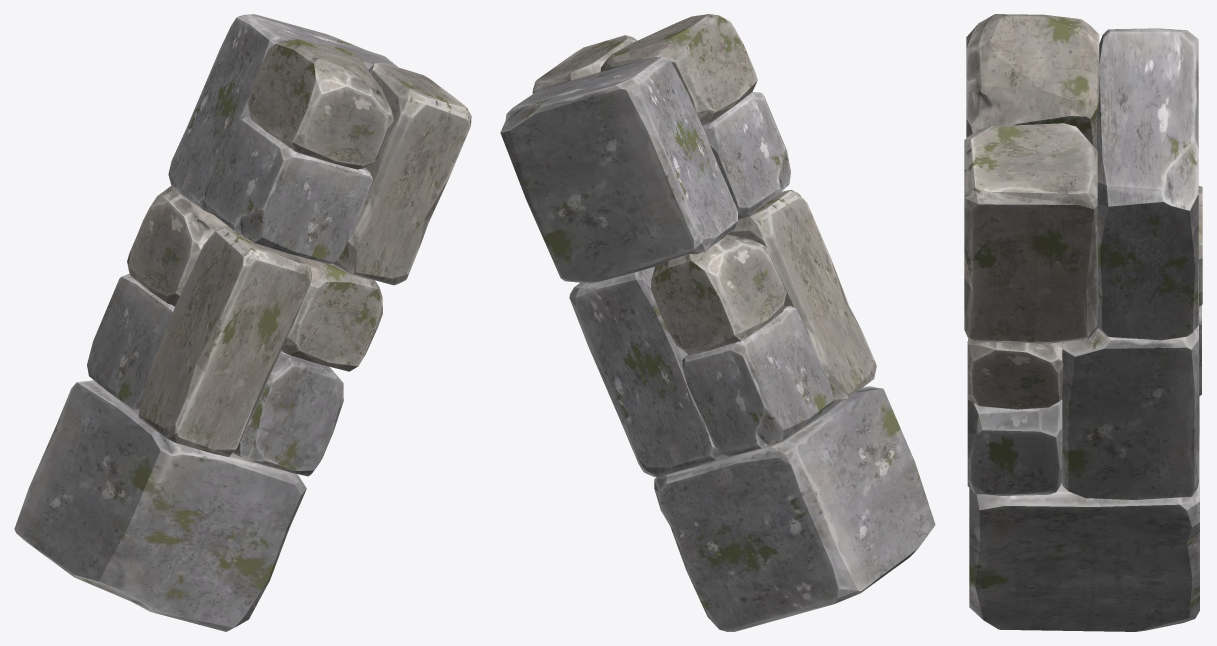
3 renders of one model, left to right at view 1: azimuth 30°, elevation 25°; view 2: azimuth 150°, elevation 25°; view 3: azimuth 270°, elevation 25°, orthographic. The views are drawn at different scales.
Visible parts, largest first — view 1: SM_BB_T3_Beam_Thick_Medium_Steep_LOD0; view 2: SM_BB_T3_Beam_Thick_Medium_Steep_LOD0; view 3: SM_BB_T3_Beam_Thick_Medium_Steep_LOD0.
Boxes of the visible parts, x1,y1,x2,y2 form: SM_BB_T3_Beam_Thick_Medium_Steep_LOD0: (14, 14, 471, 631); SM_BB_T3_Beam_Thick_Medium_Steep_LOD0: (500, 14, 935, 631); SM_BB_T3_Beam_Thick_Medium_Steep_LOD0: (964, 14, 1202, 631).
Size of the model in its own units: 1.24 by 1.76 by 0.5696.
Materials: 1 (1 with a texture image).
